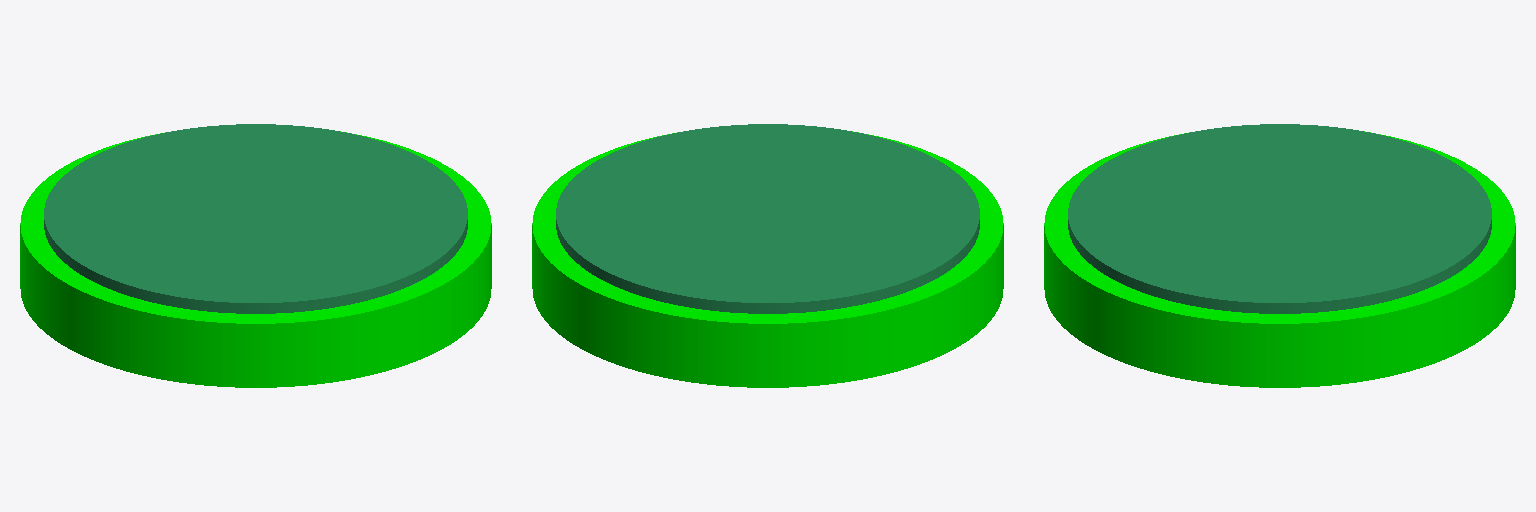
robot.urdf — simple_push_button:
<?xml version="1.0" ?>
<robot name="simple_push_button">
  <joint name="simple_push_button__base_cylinder_fixation" type="fixed">
    <parent link="simple_push_button__base"/>
    <child link="simple_push_button__cylinder"/>
    <origin rpy="0  0  0" xyz="0     0     0.005"/>
    <axis xyz="0  0  0"/>
    <limit effort="0" lower="0" upper="0" velocity="0"/>
  </joint>
  <joint name="simple_push_button__glider" type="prismatic">
    <parent link="simple_push_button__base"/>
    <child link="simple_push_button__button"/>
    <origin rpy="0  0  0" xyz="0     0     0.005"/>
    <axis xyz="0  0  1"/>
    <limit effort="0.0" lower="0.0" upper="0.01" velocity="0.0"/>
  </joint>
  <link name="simple_push_button__base">
    <inertial>
      <mass value="5"/>
      <origin rpy="0  0  0" xyz="0  0  0"/>
      <inertia ixx="0.0500104166667" ixy="0" ixz="0" iyy="0.0500104166667" iyz="0" izz="0.1"/>
    </inertial>
    <collision name="simple_push_button__base_collision">
      <origin rpy="0  0  0" xyz="0  0  0"/>
      <geometry>
        <mesh filename="meshes/base_button.dae" scale="1.0 1.0 1.0"/>
      </geometry>
    </collision>
    <visual name="simple_push_button__base_visual">
      <origin rpy="0  0  0" xyz="0  0  0"/>
      <geometry>
        <mesh filename="meshes/base_button.dae" scale="1.0 1.0 1.0"/>
      </geometry>
      <material name="green">
        <color rgba="0 1 0 1"/>
      </material>
    </visual>
  </link>
  <link name="simple_push_button__cylinder">
    <inertial>
      <mass value="5"/>
      <origin rpy="0  0  0" xyz="0  0  0"/>
      <inertia ixx="0.275260416667" ixy="0" ixz="0" iyy="0.275260416667" iyz="0" izz="0.181"/>
    </inertial>
    <collision name="simple_push_button__cylinder_collision">
      <origin rpy="0  0  0" xyz="0  0  0"/>
      <geometry>
        <mesh filename="meshes/base_cylinder.dae" scale="1.0 1.0 1.0"/>
      </geometry>
    </collision>
    <visual name="simple_push_button__cylinder_visual">
      <origin rpy="0  0  0" xyz="0  0  0"/>
      <geometry>
        <mesh filename="meshes/base_cylinder.dae" scale="1.0 1.0 1.0"/>
      </geometry>
      <material name="green">
        <color rgba="0 1 0 1"/>
      </material>
    </visual>
  </link>
  <link name="simple_push_button__button">
    <inertial>
      <mass value="0.1"/>
      <origin rpy="0  0  0" xyz="0  0  0"/>
      <inertia ixx="0.0008175" ixy="0" ixz="0" iyy="0.0008175" iyz="0" izz="0.00162"/>
    </inertial>
    <collision name="simple_push_button__button_collision">
      <origin rpy="0  0  0" xyz="0  0  0"/>
      <geometry>
        <mesh filename="meshes/button.dae" scale="1.0 1.0 1.0"/>
      </geometry>
    </collision>
    <visual name="simple_push_button__button_visual">
      <origin rpy="0  0  0" xyz="0  0  0"/>
      <geometry>
        <mesh filename="meshes/button.dae" scale="1.0 1.0 1.0"/>
      </geometry>
      <material name="blue">
        <color rgba="0.2 0.6 0.38 1"/>
      </material>
    </visual>
  </link>
</robot>

--- Facts derived from the render (not from the file) ---
The picture shows the robot from 3 angles, left to right: view 1: azimuth 30°, elevation 25°; view 2: azimuth 150°, elevation 25°; view 3: azimuth 270°, elevation 25°; orthographic projection.
Model simple_push_button with 3 links and 2 joints (1 prismatic, 1 fixed), rooted at simple_push_button__base, posed all joints at 0.
Links seen in each view (by area): view 1: simple_push_button__button, simple_push_button__cylinder, simple_push_button__base; view 2: simple_push_button__button, simple_push_button__cylinder, simple_push_button__base; view 3: simple_push_button__button, simple_push_button__cylinder, simple_push_button__base.
Link boxes in pixels (x1,y1,x2,y2): simple_push_button__button: (44,124,467,313); simple_push_button__cylinder: (20,131,491,376); simple_push_button__base: (20,279,491,387); simple_push_button__button: (556,124,979,313); simple_push_button__cylinder: (532,131,1003,376); simple_push_button__base: (532,279,1003,387); simple_push_button__button: (1068,124,1491,313); simple_push_button__cylinder: (1044,131,1515,376); simple_push_button__base: (1044,279,1515,387).
Size in the robot's own frame: 0.2 by 0.2 by 0.035 metres.
Meshes: 3 distinct files referenced, 3 mesh visuals loaded (3 Collada DAE).